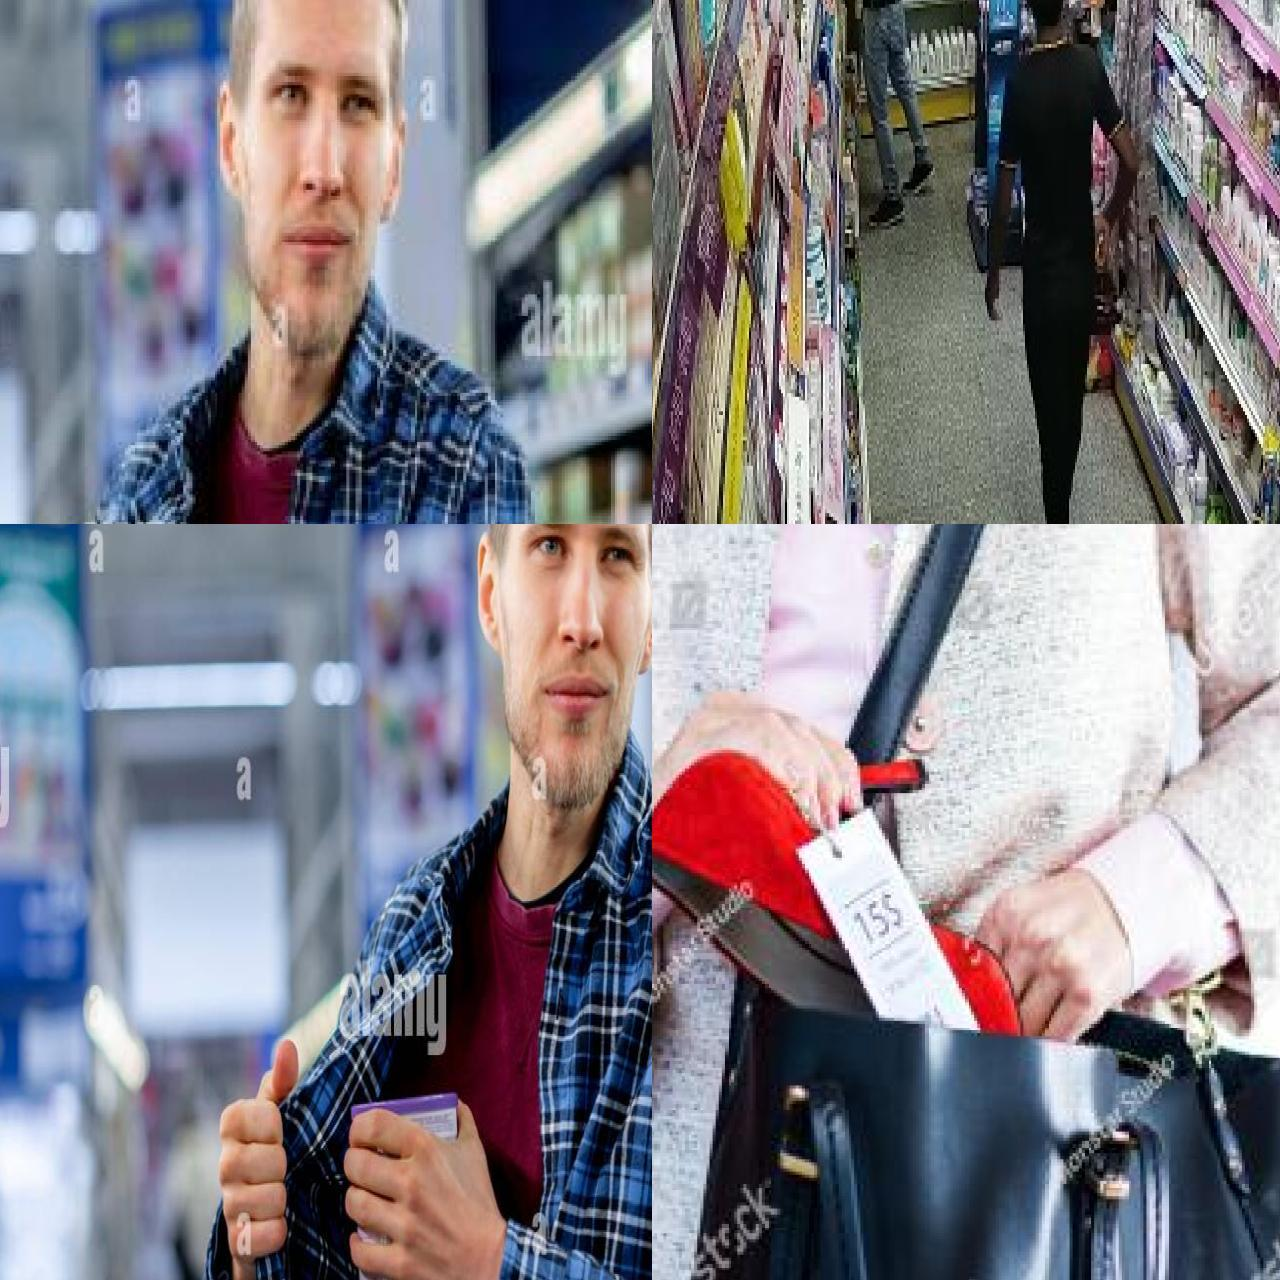Shoplifting: (652, 628, 1238, 1280), (207, 542, 652, 1280), (0, 89, 540, 524), (972, 0, 1194, 524)
